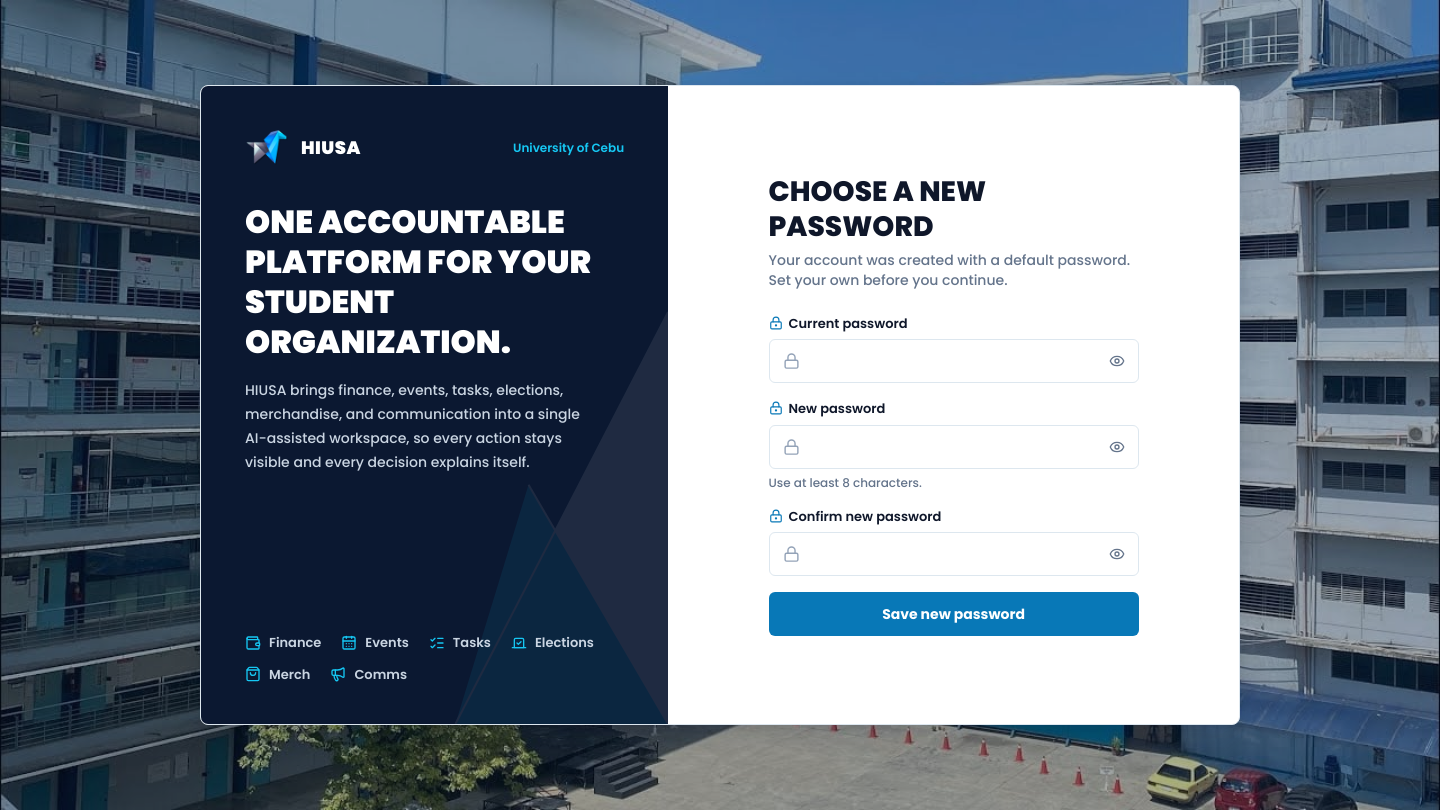
ChangePasswordPage › puts a wrong current password on the current password field
The width and height of the screenshot is (1440, 810).
Step 1. Type "4321-uclm" into the password field labelled "Current password" → (954, 361), box [768,339,1138,383]
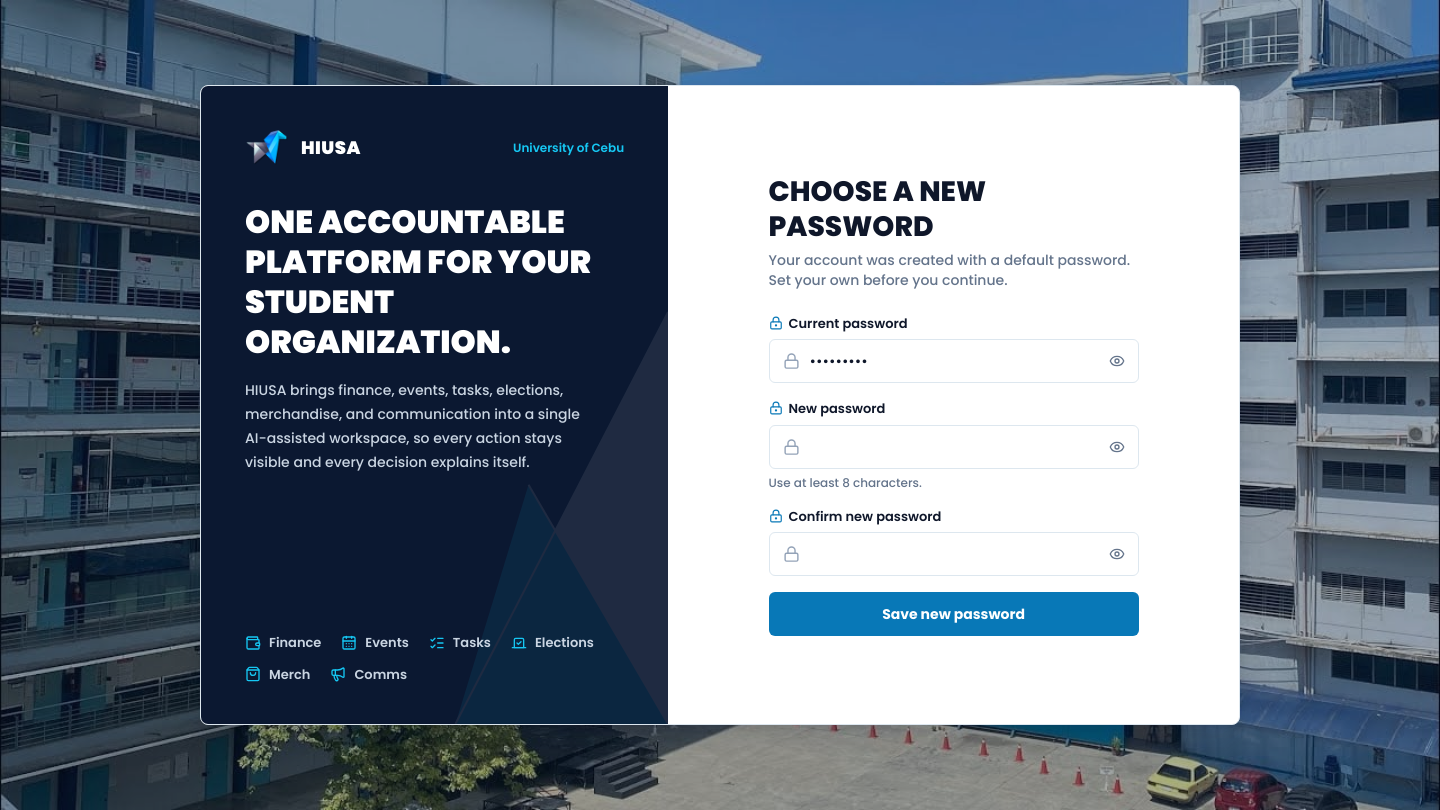
Step 2. Type "my-own-secret" into the password field labelled "New password" → (954, 447), box [768,425,1138,469]
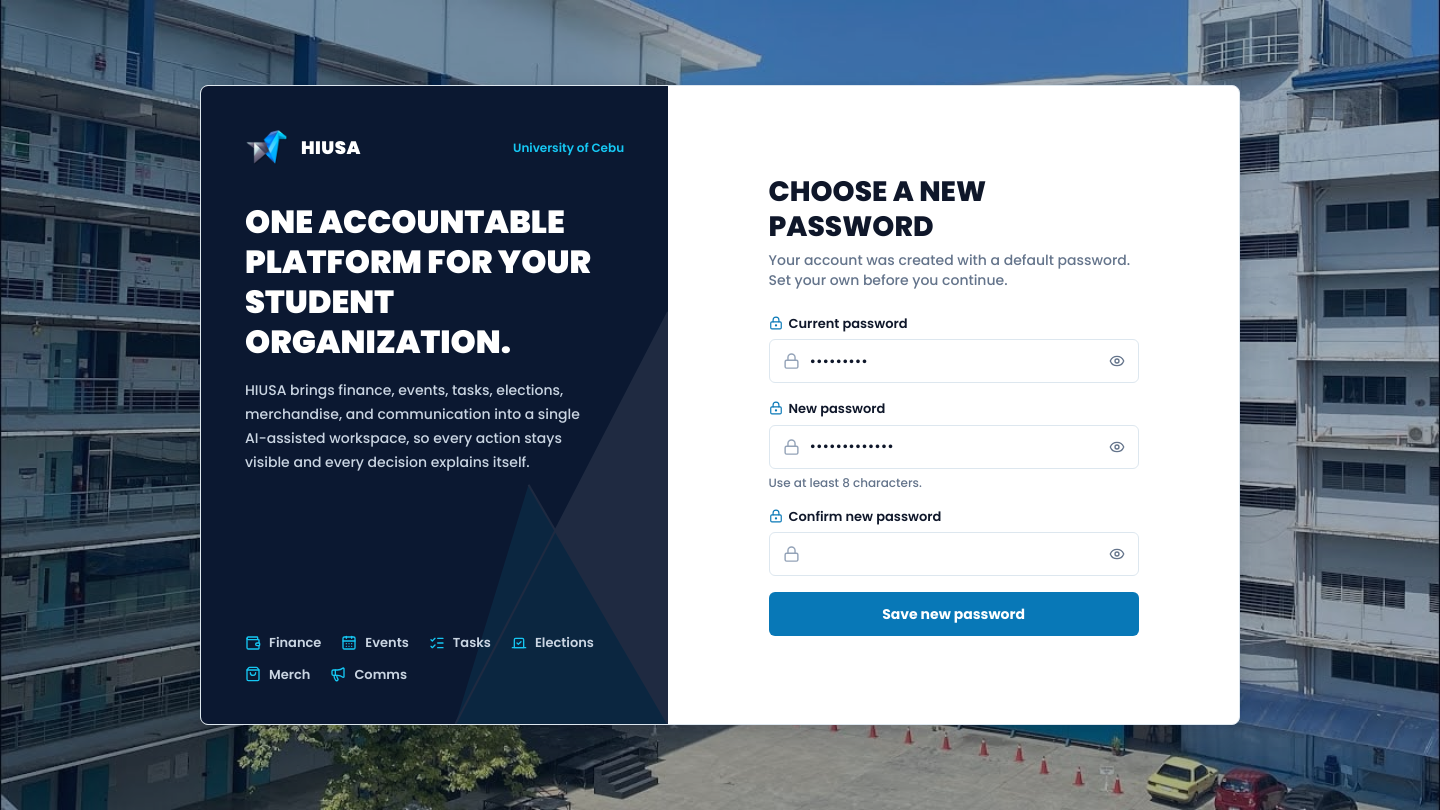
Step 3. Type "my-own-secret" into the password field labelled "Confirm new password" → (954, 554), box [768,532,1138,576]
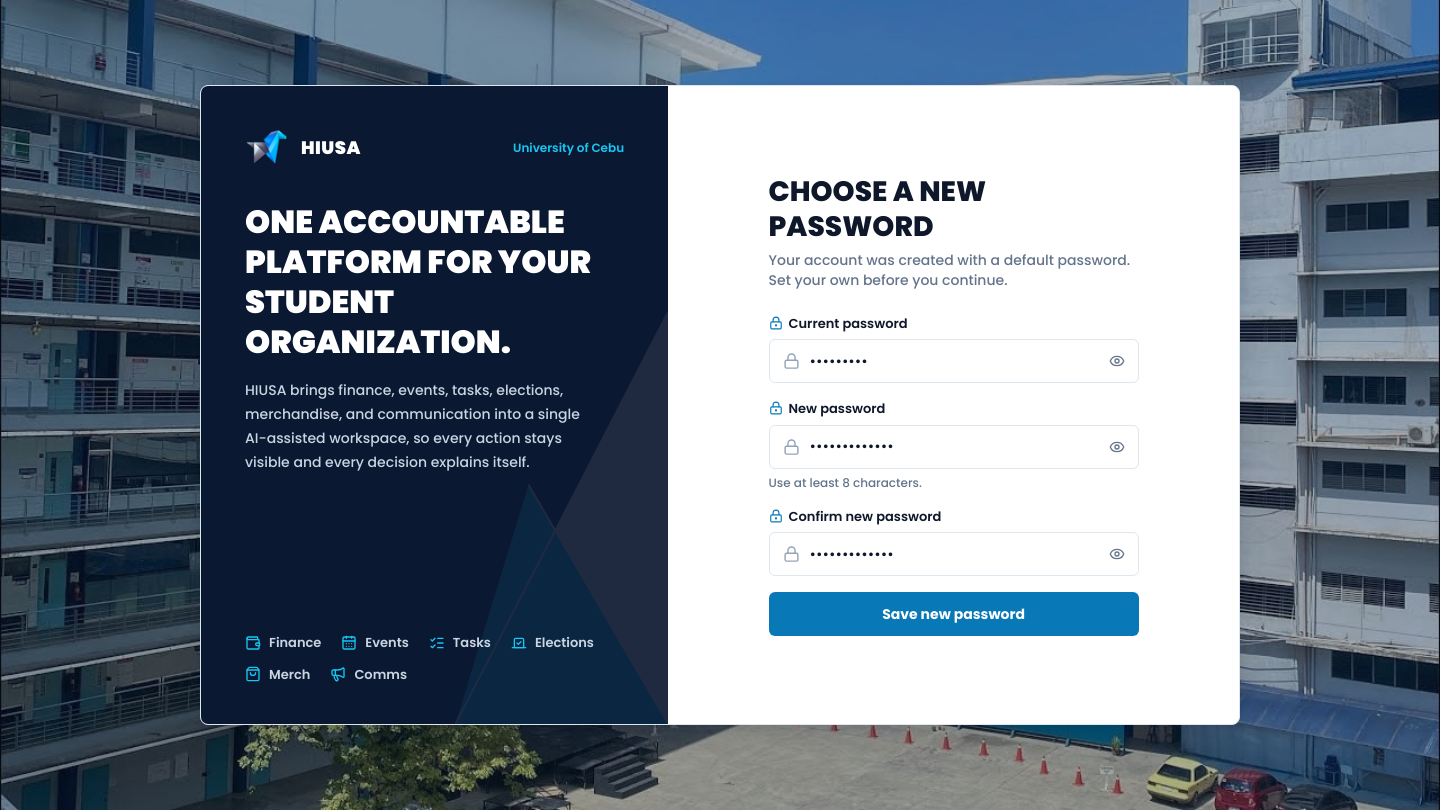
Step 4. Click the button "Save new password" → click(954, 614), box [768,592,1138,636]
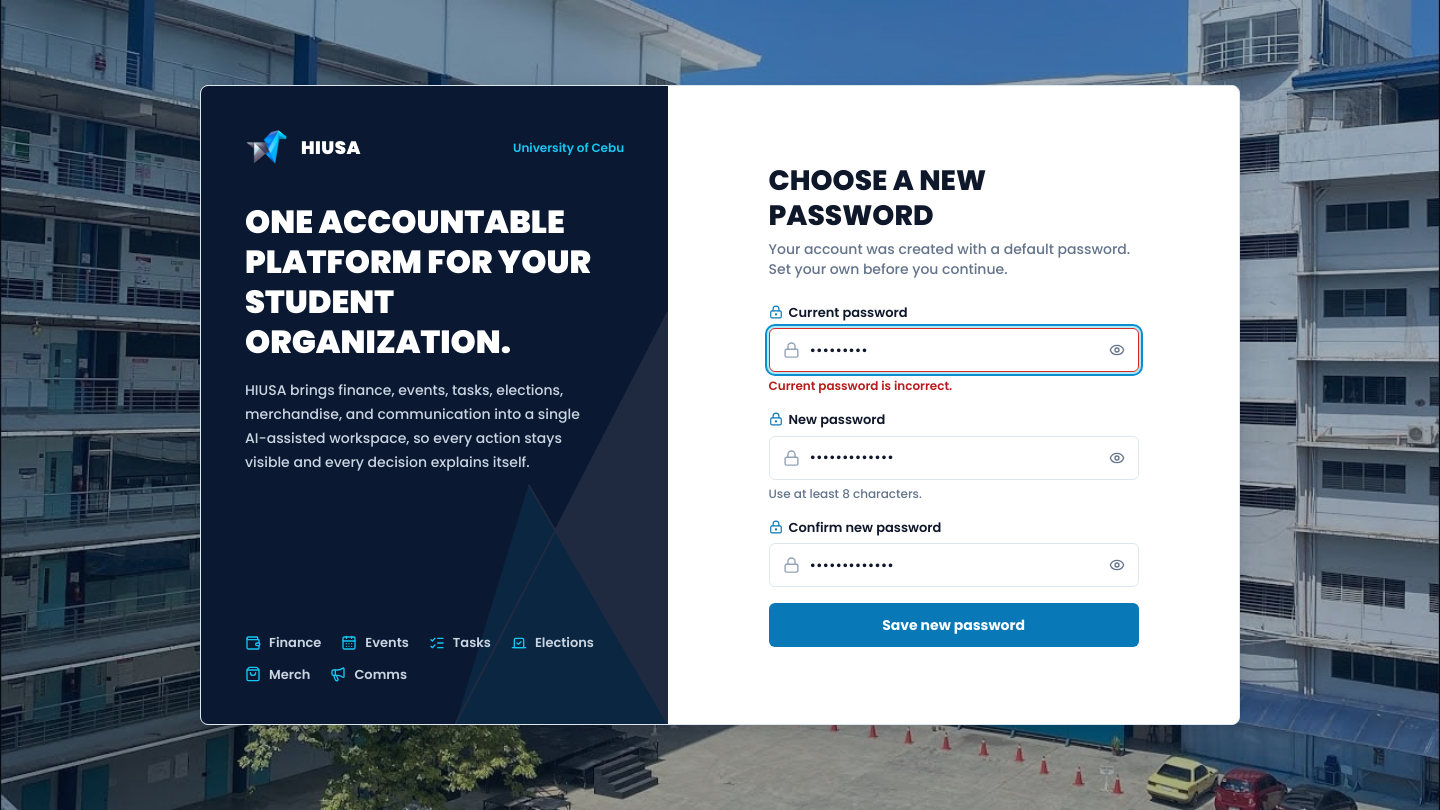
Result: the text "Current password is incorrect." is shown at [768,377,952,394]
